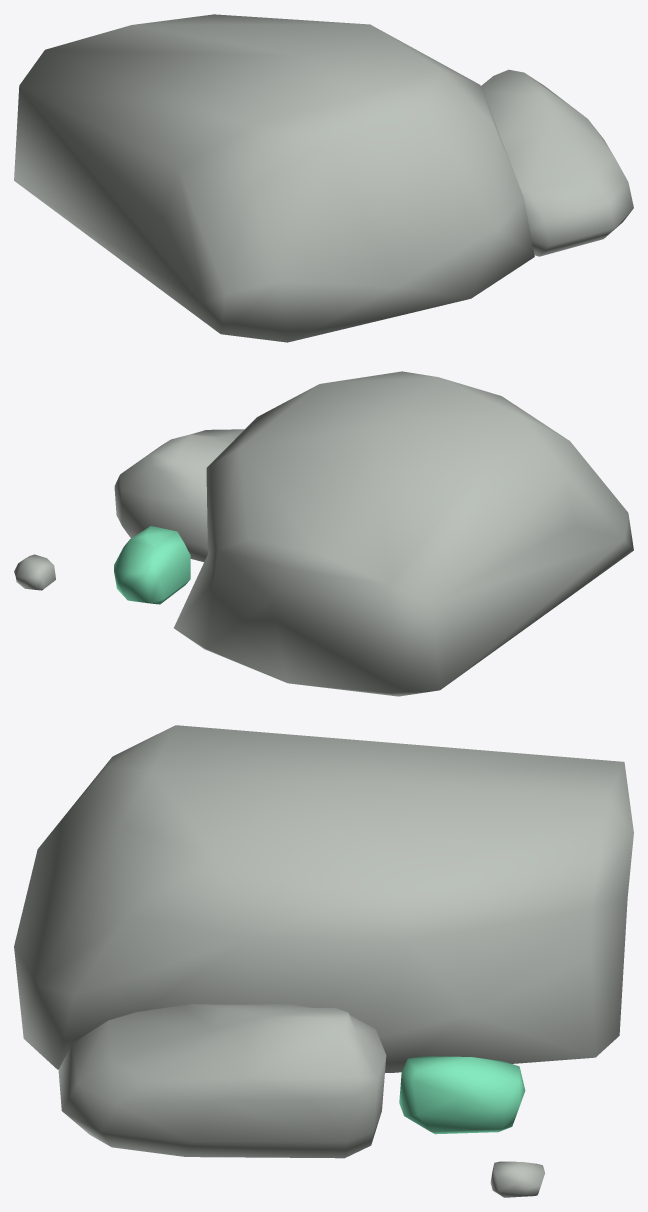
File: piedras.fbx
3 renders of one model, top to bottom at view 1: azimuth 30°, elevation 25°; view 2: azimuth 150°, elevation 25°; view 3: azimuth 270°, elevation 25°, orthographic. The views are drawn at different scales.
Parts seen in each view (by area): view 1: Cube, Cube.001; view 2: Cube, Cube.001, Cube.002, Cube.003; view 3: Cube, Cube.001, Cube.002, Cube.003.
Boxes of the visible parts, x1,y1,x2,y2 form: Cube: [14, 14, 534, 342]; Cube.001: [481, 69, 633, 256]; Cube: [174, 371, 633, 696]; Cube.001: [114, 429, 244, 561]; Cube.002: [114, 526, 190, 604]; Cube.003: [14, 554, 55, 590]; Cube: [14, 725, 633, 1072]; Cube.001: [58, 1003, 386, 1158]; Cube.002: [399, 1056, 525, 1134]; Cube.003: [490, 1161, 544, 1197].
Size of the model in its own units: 411 by 153 by 354.
